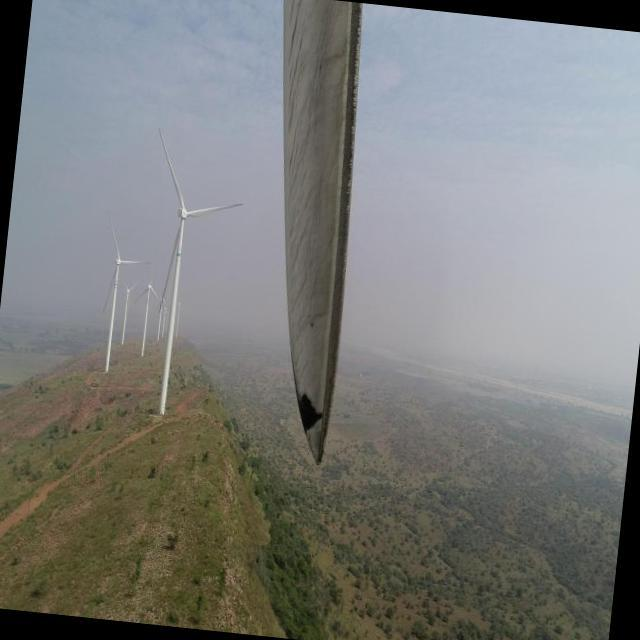Dirt: (282, 0, 360, 462)
Oil LEAKAGE: (295, 390, 323, 432)
Pin Hole: (317, 412, 329, 424), (310, 319, 318, 333)
